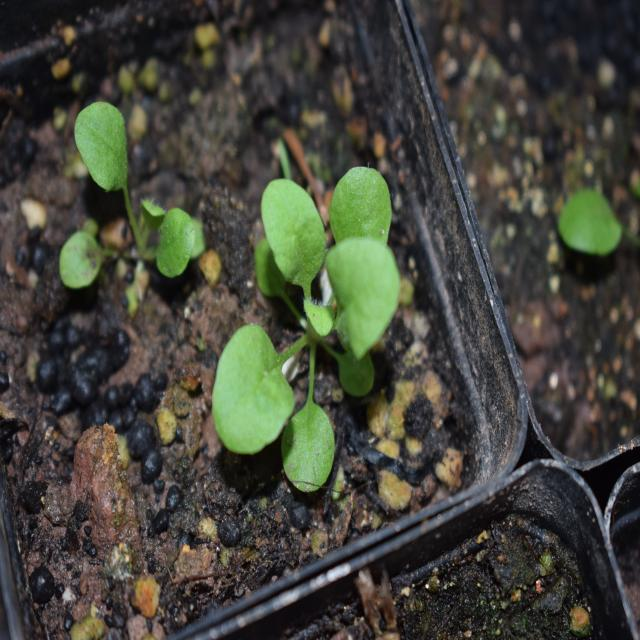Shepherd_Purse: (211, 154, 420, 474), (59, 90, 229, 288)
